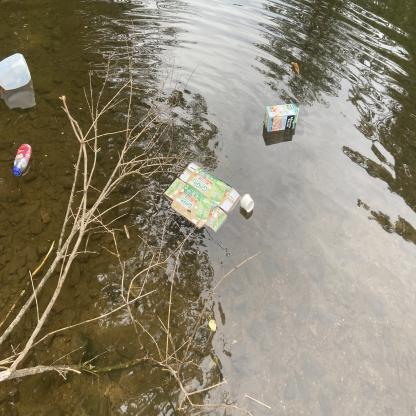trash: (163, 160, 246, 242), (258, 100, 302, 136), (0, 50, 35, 94), (9, 137, 35, 181), (238, 192, 256, 218)
